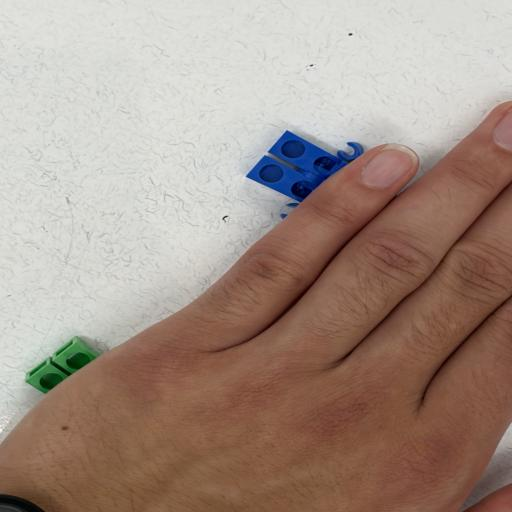Blue-Lego: (246, 131, 364, 202)
Green-Lego: (25, 336, 99, 394)
